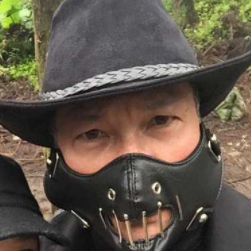mask: (39, 110, 214, 225)
